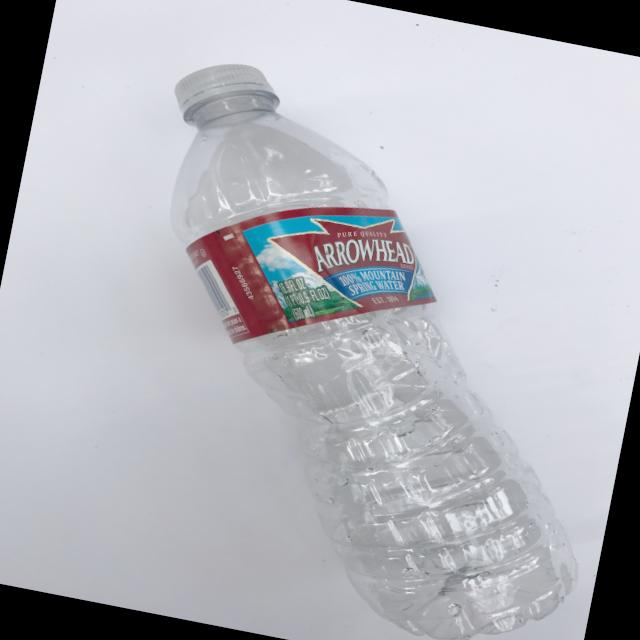Plastic: (30, 27, 640, 640)
